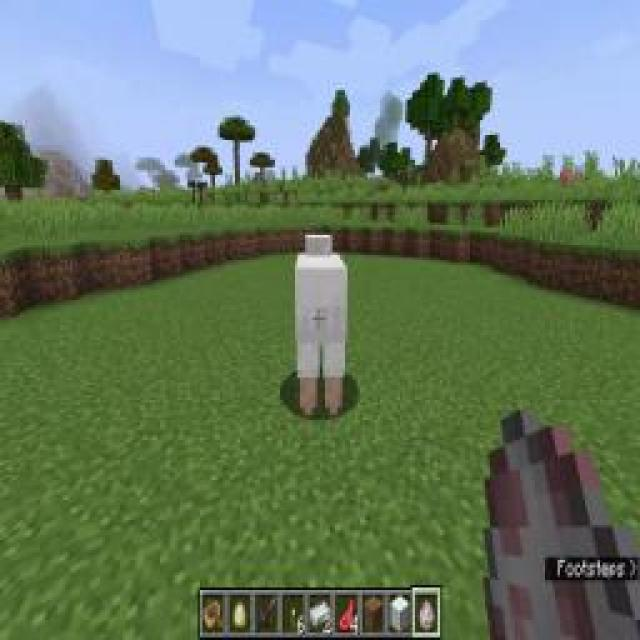Sheep: (295, 228, 350, 420)
